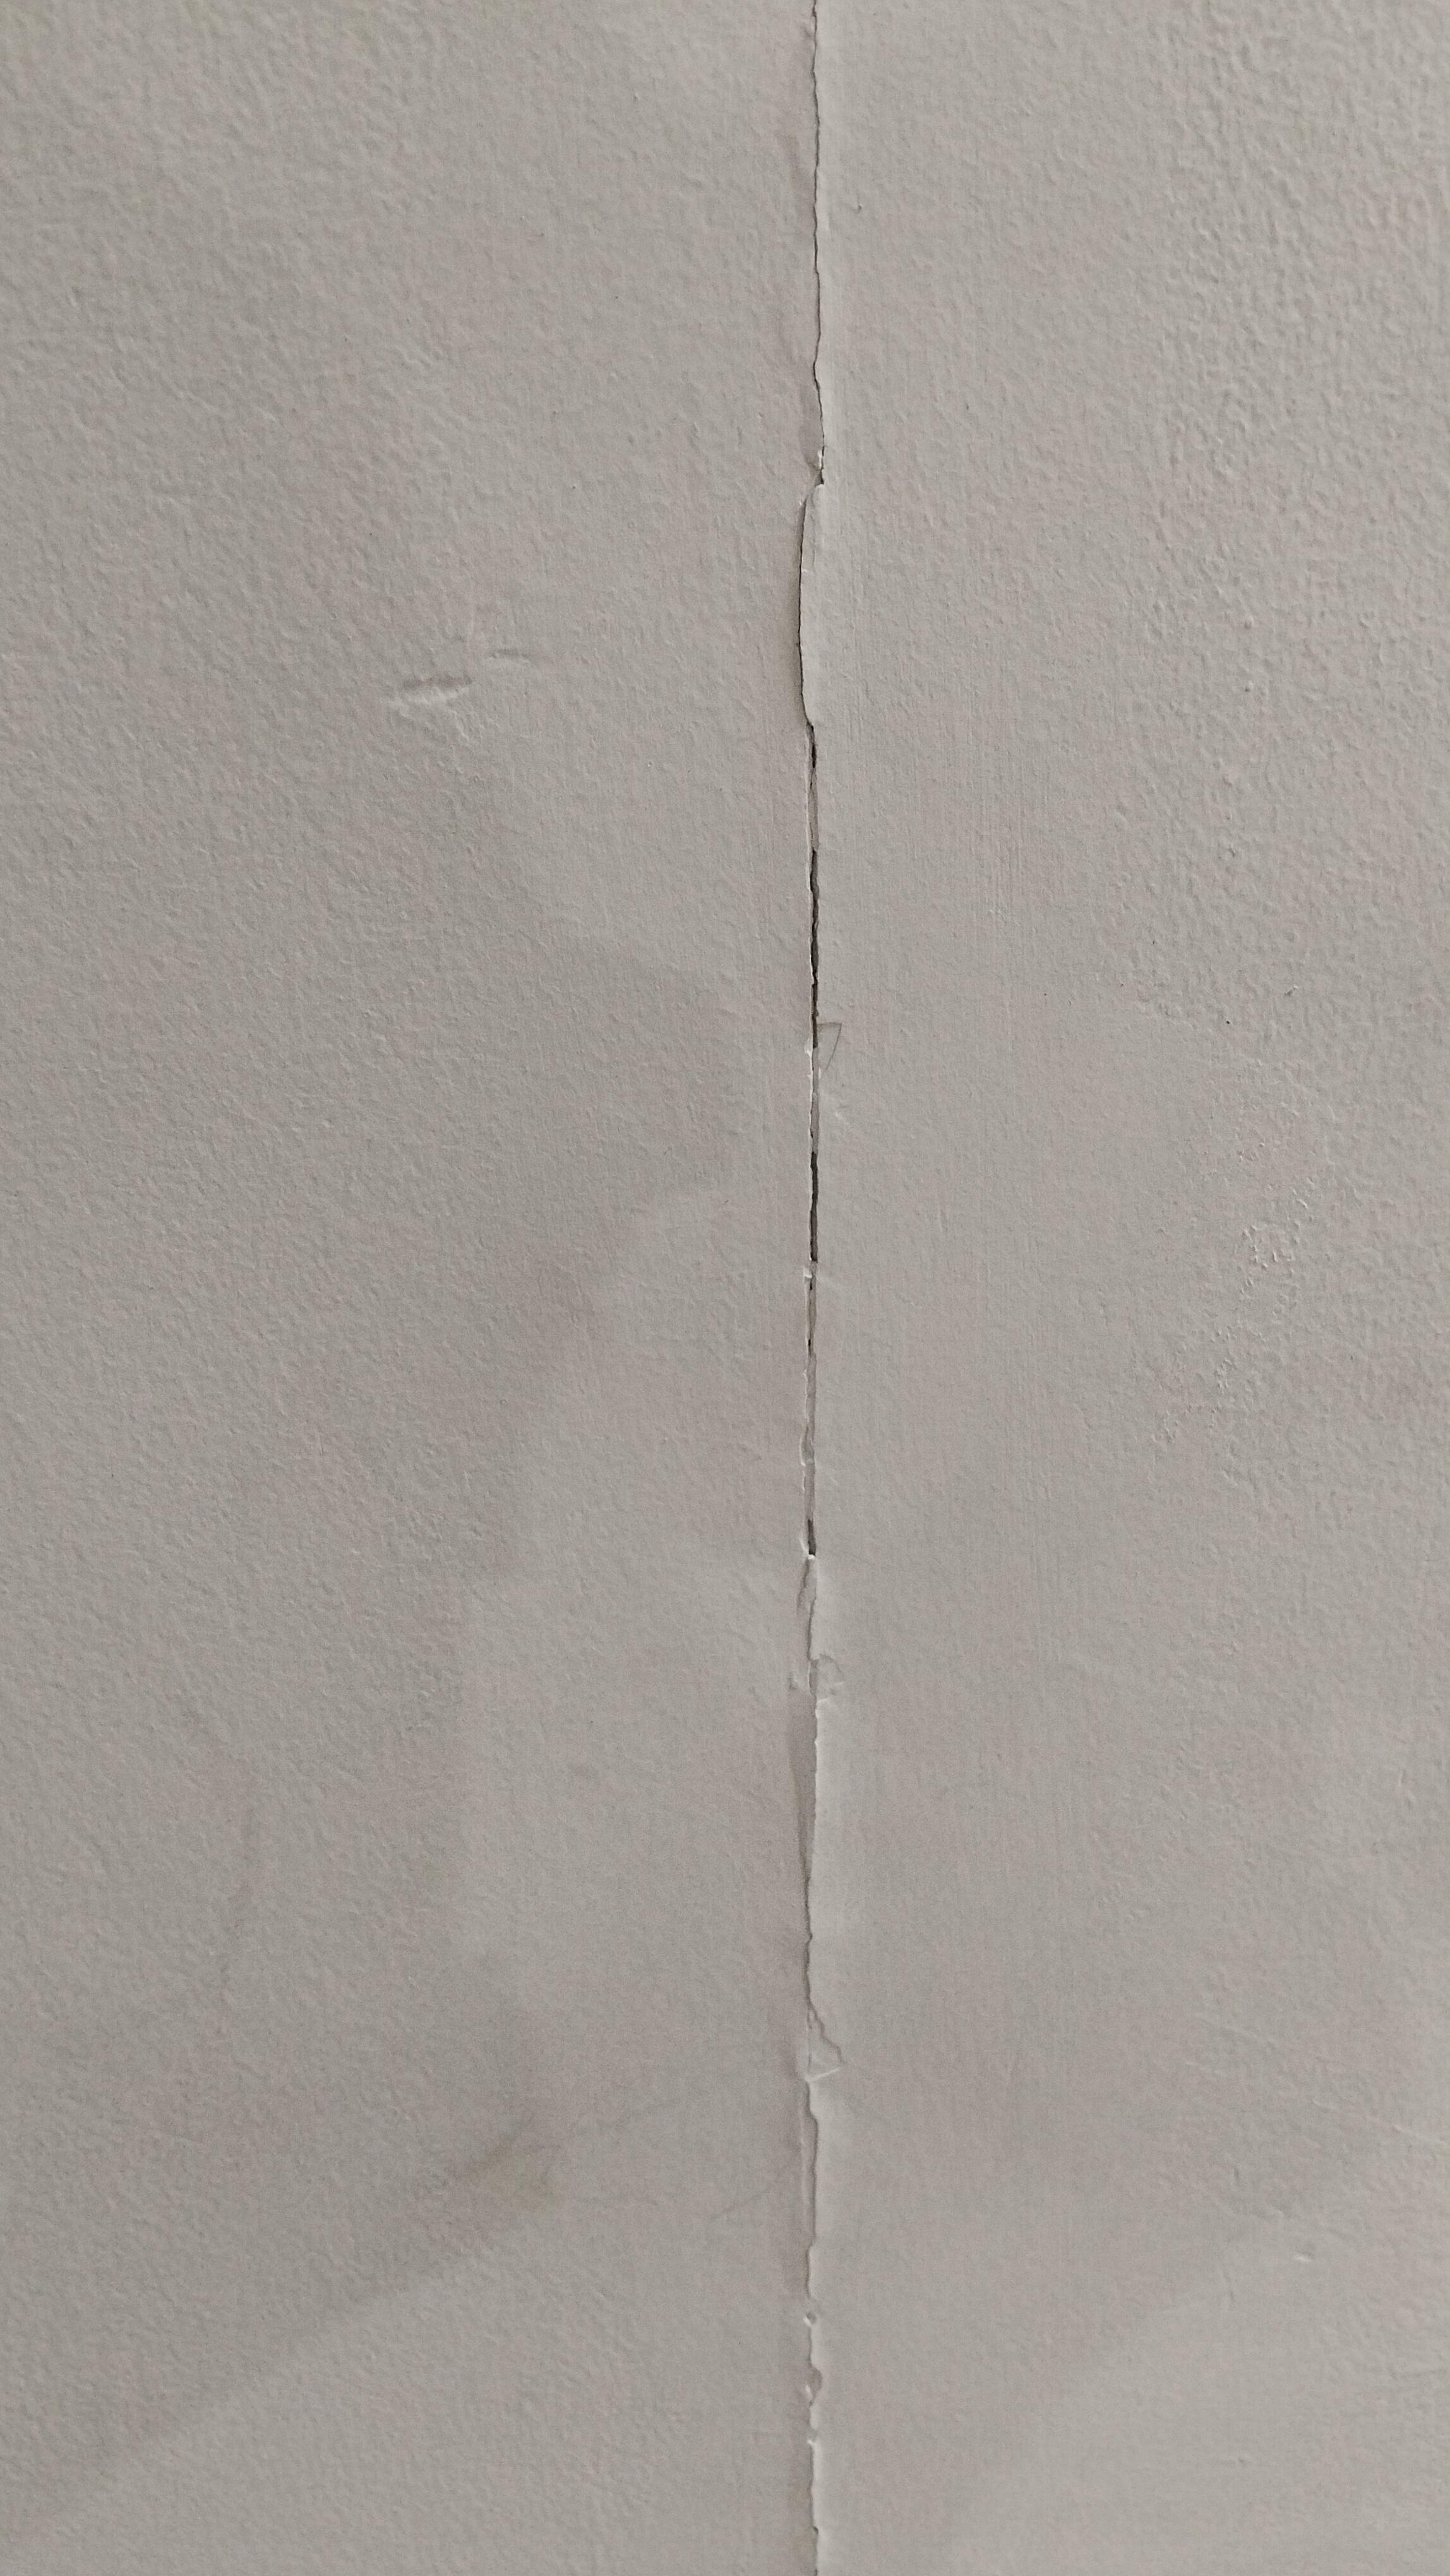Crack: (745, 44, 891, 1730), (726, 1762, 883, 2512)
